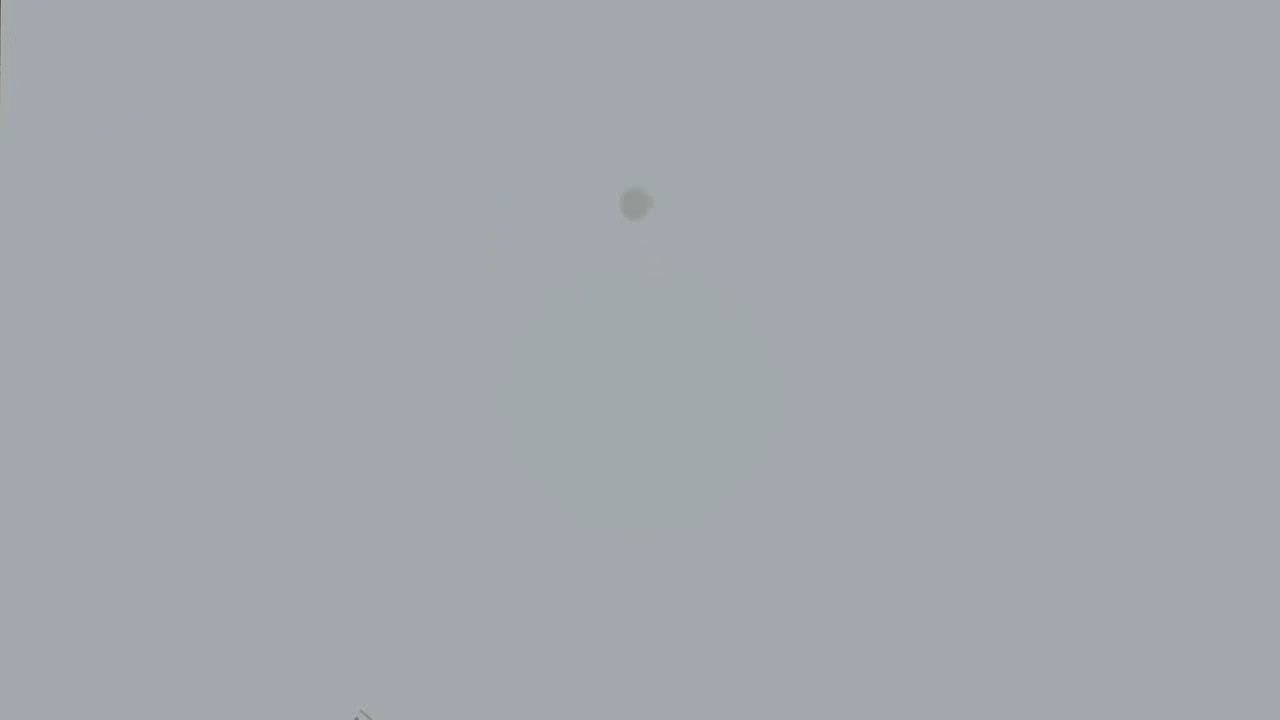Football-Spotter: (619, 187, 654, 221)
